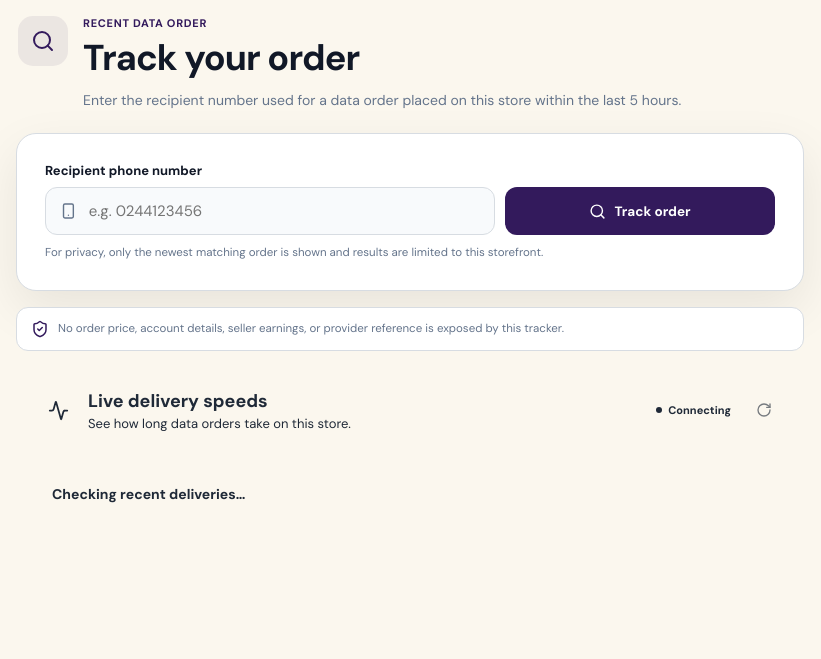
Test case: TrackDataOrder › shows a clear message when no recent order exists
In the field labelled "Recipient phone number": [283, 211] box x1=87 y1=200 x2=480 y2=222, type "0244123456"
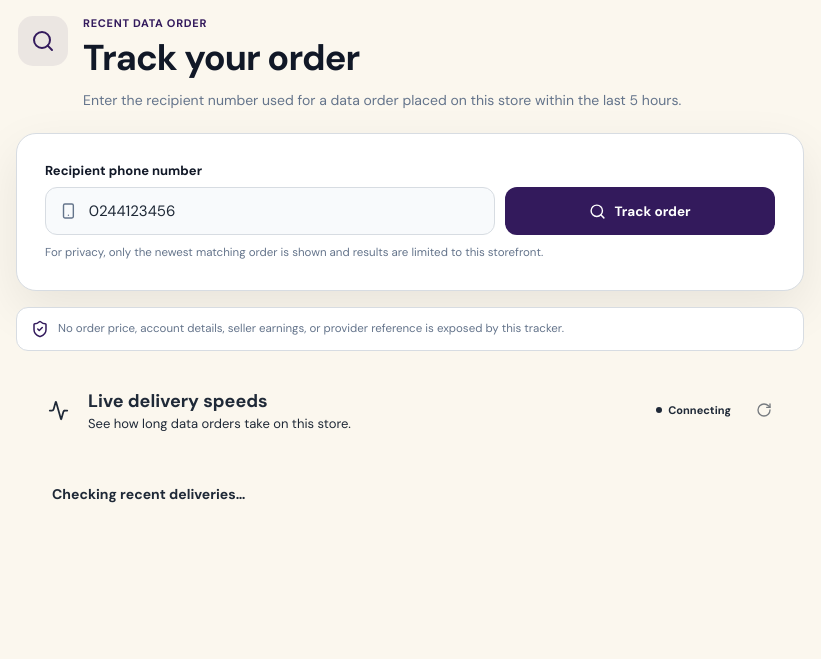
Click the button "Track order": [640, 211] box x1=505 y1=187 x2=775 y2=235
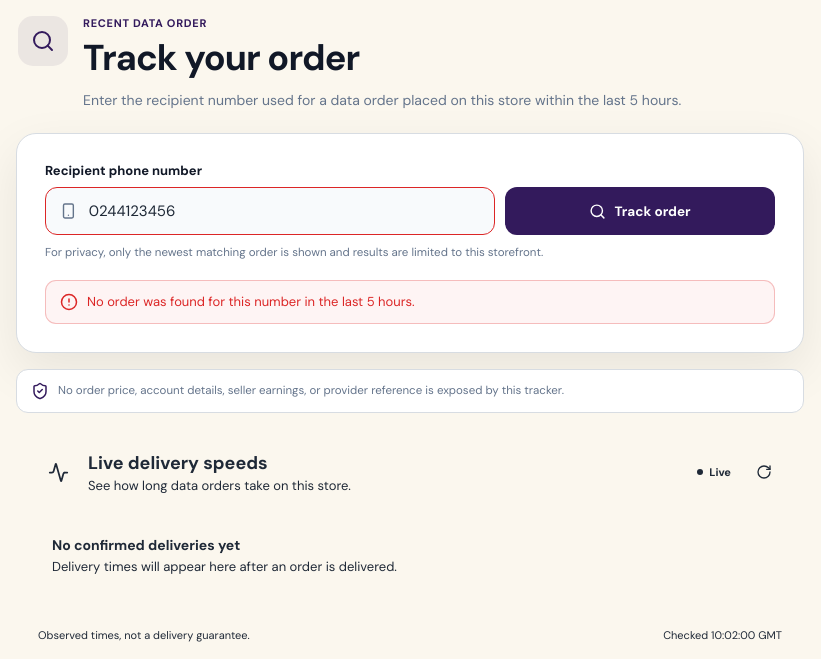
Now the text "No order was found for this number in the last 5 hours." is shown, box x1=87 y1=293 x2=415 y2=310
